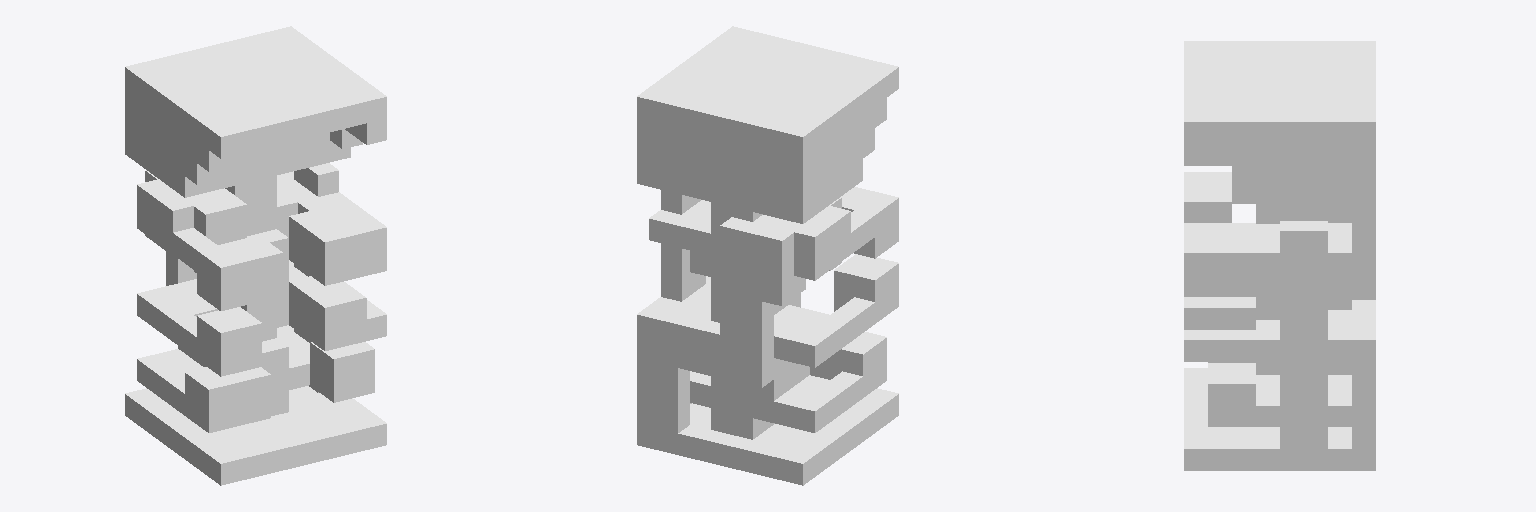
File: mummy_body.obj
The picture shows the model from 3 angles: view 1: azimuth 30°, elevation 25°; view 2: azimuth 150°, elevation 25°; view 3: azimuth 270°, elevation 25°; orthographic projection.
Parts seen in each view (by area): view 1: object 1; view 2: object 1; view 3: object 1.
Part boxes in pixels (bbox=[...]): object 1: bbox=[125, 26, 386, 485]; object 1: bbox=[637, 26, 898, 485]; object 1: bbox=[1184, 41, 1375, 470].
Size of the model in its own units: 0.8 by 1.6 by 0.8.